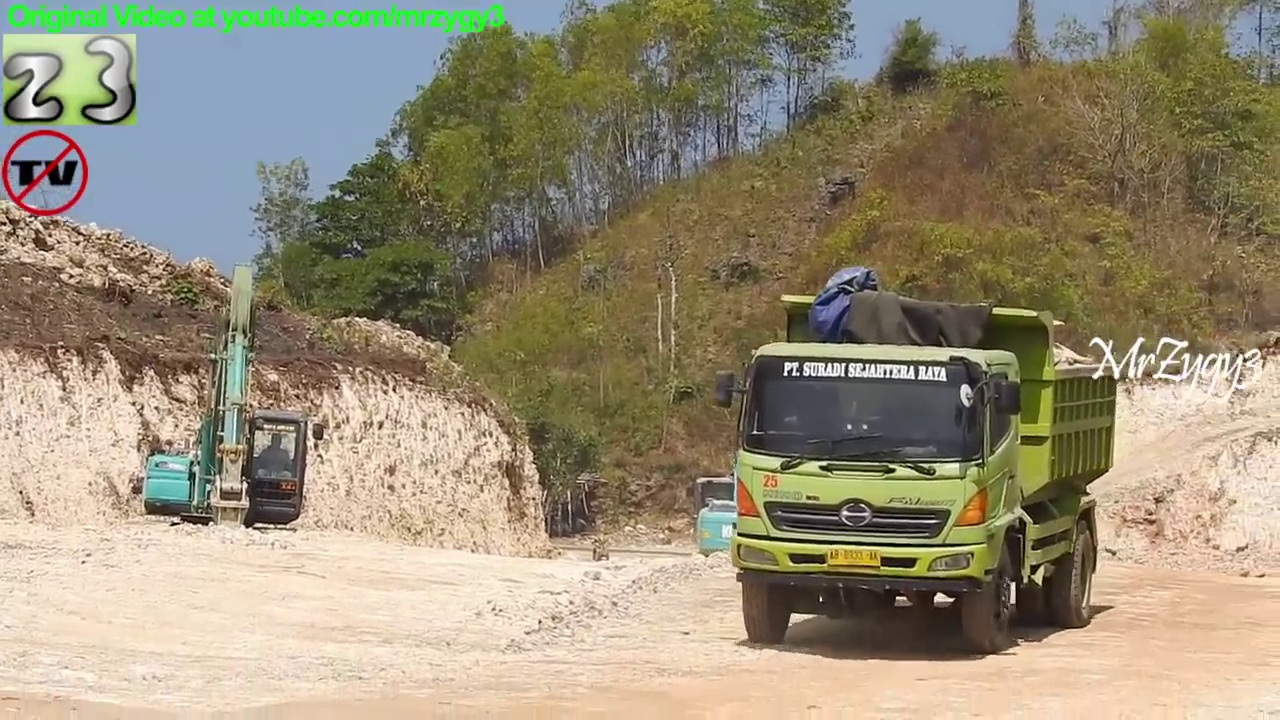excavator: (137, 258, 331, 571), (682, 459, 809, 585)
truck: (706, 285, 1127, 662)
